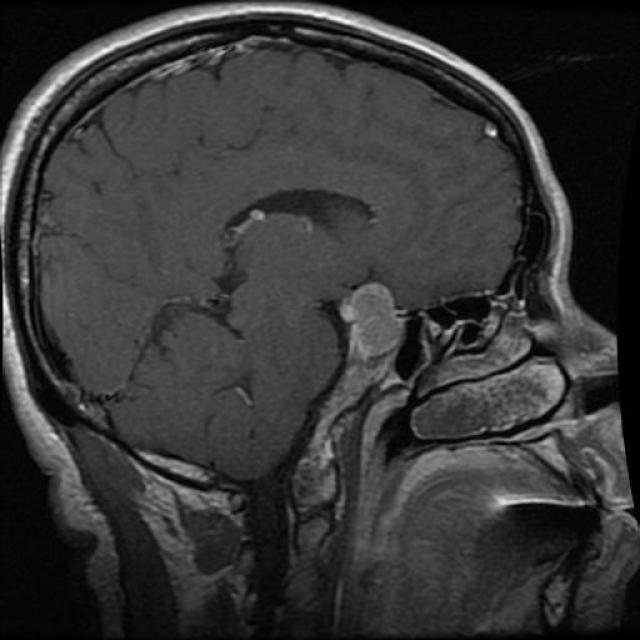pituitary: (322, 261, 412, 387)
